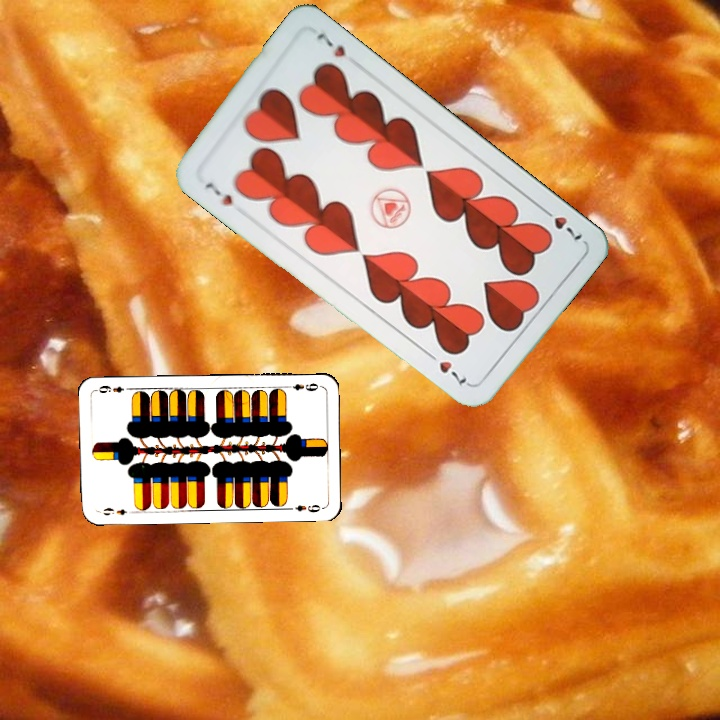E9: (282, 379, 320, 394), (99, 504, 130, 518)
H7: (536, 202, 585, 243), (201, 178, 236, 209)
